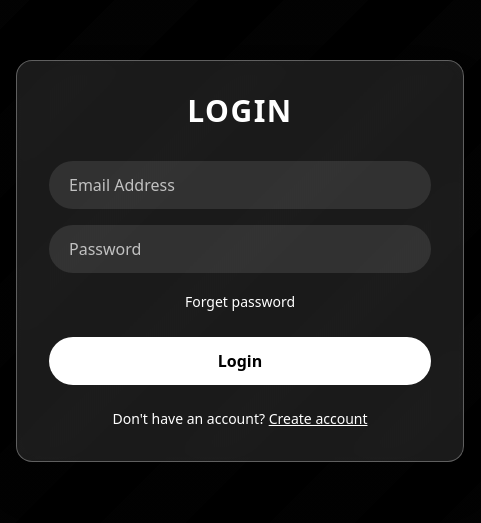
Test case: Login Component › toggles back to LOGIN view
The image size is (481, 523).
Click the button "Create account" at (318, 419), box [269, 409, 368, 429]
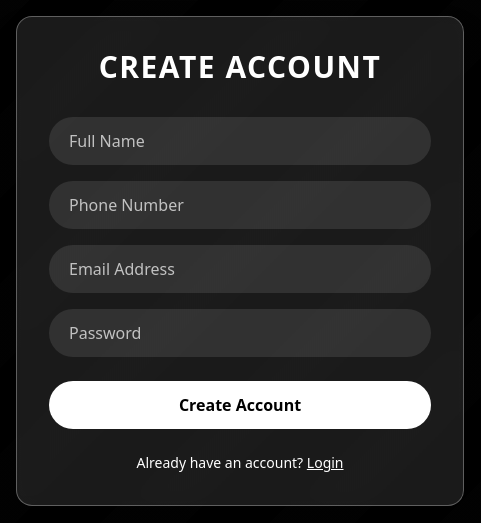
Click the button "Login" at (325, 463), box [307, 453, 344, 473]
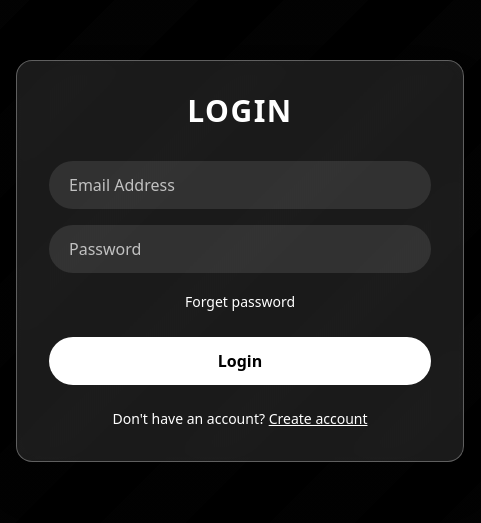
Check: the heading "LOGIN" is shown, box [187, 90, 293, 131]
